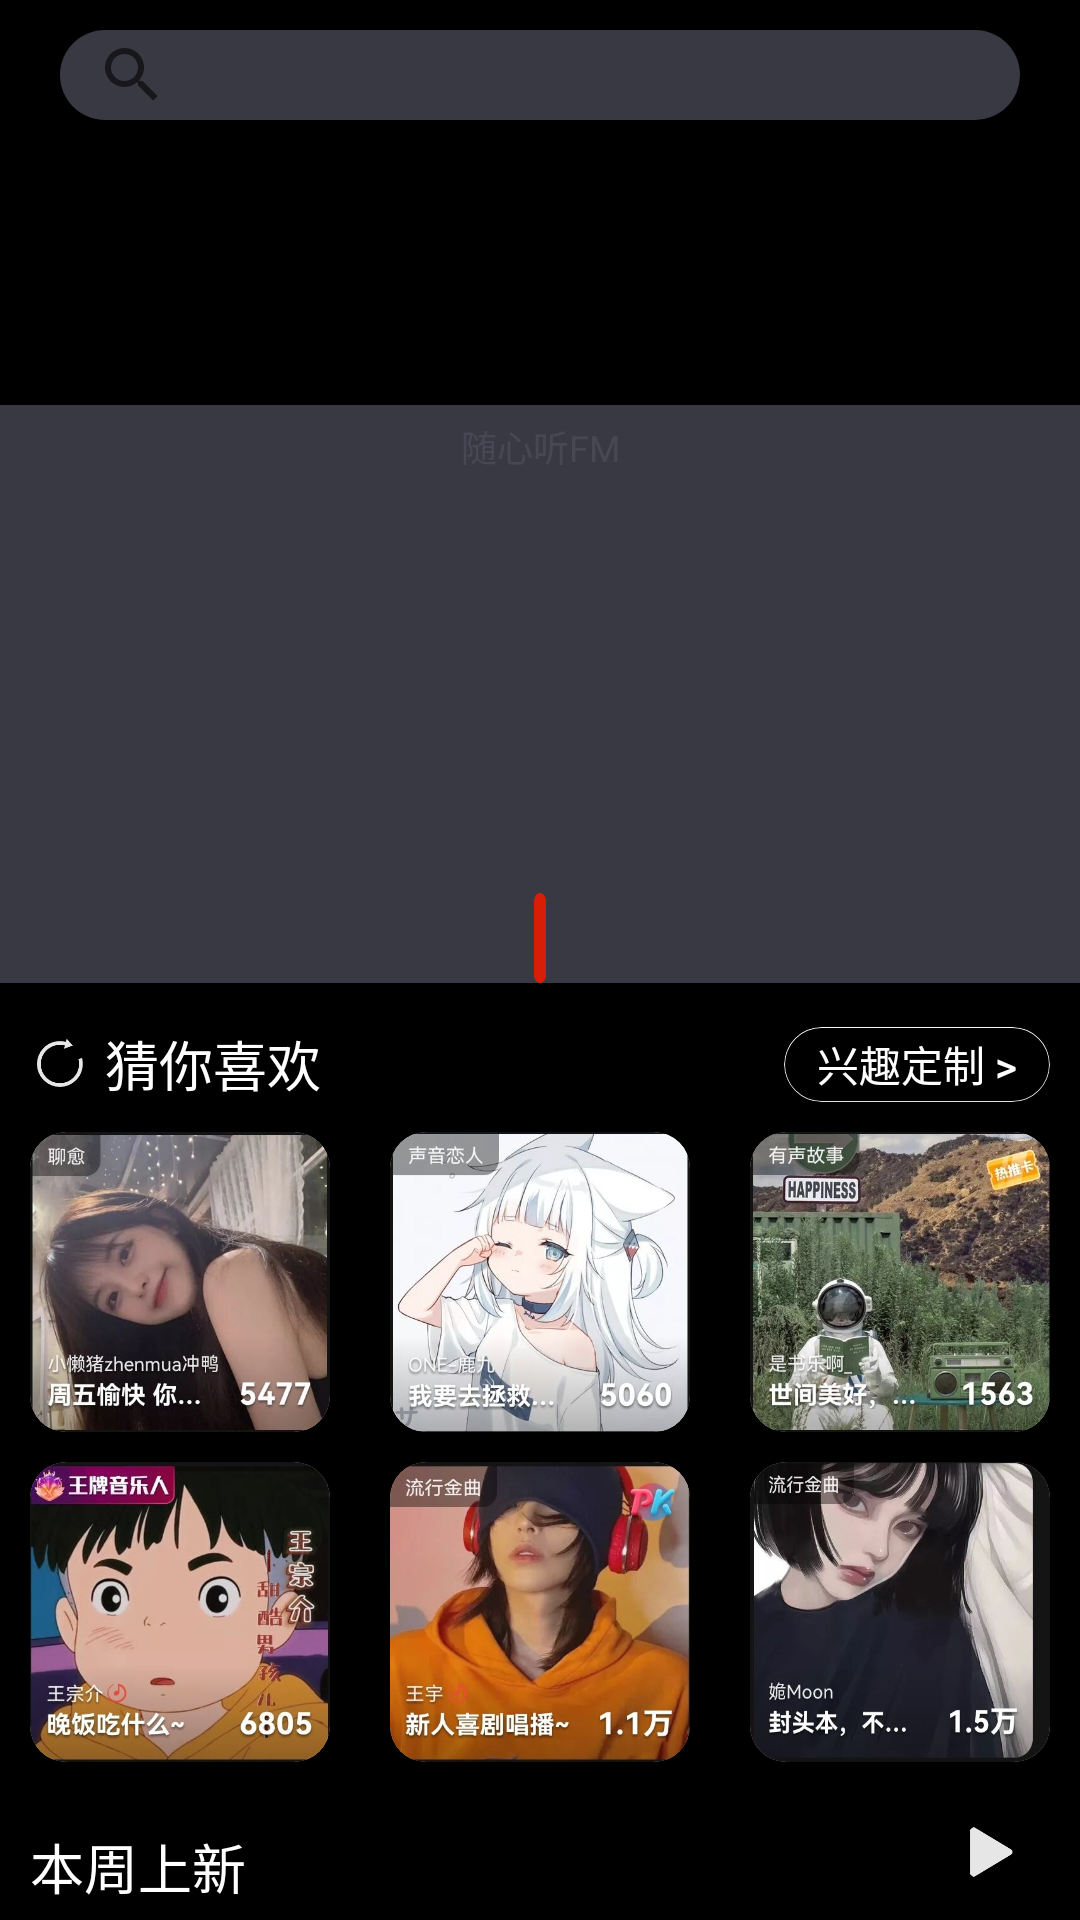

Point at icon controls on the screen. Image size 1080 × 1920, points as (x,y).
play sing: (991,1852)
updata: (60,1063)
